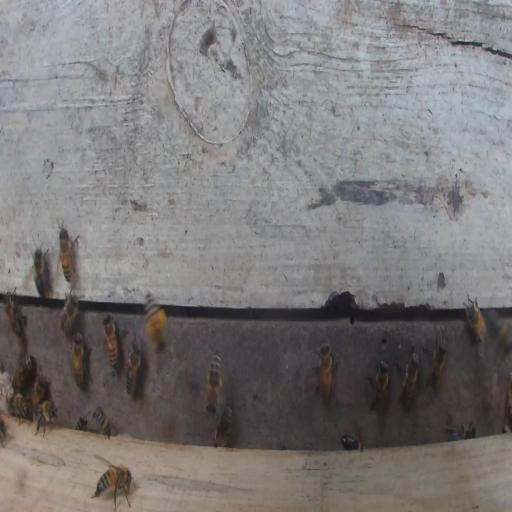nonpollenbee: (92, 464, 133, 509), (464, 294, 487, 357), (58, 225, 80, 284), (3, 288, 27, 339), (368, 357, 389, 415), (205, 353, 223, 414), (102, 312, 119, 375), (34, 399, 58, 439), (125, 338, 141, 396), (428, 340, 446, 391), (402, 353, 419, 407), (60, 289, 80, 334), (12, 354, 36, 390), (213, 405, 233, 448), (72, 331, 86, 389), (490, 318, 511, 355), (319, 343, 332, 401), (92, 406, 114, 440), (34, 248, 47, 302), (11, 393, 32, 423), (445, 420, 475, 440), (31, 375, 48, 405), (341, 434, 364, 451), (76, 415, 88, 430)
pollenbee: (145, 290, 166, 352)
